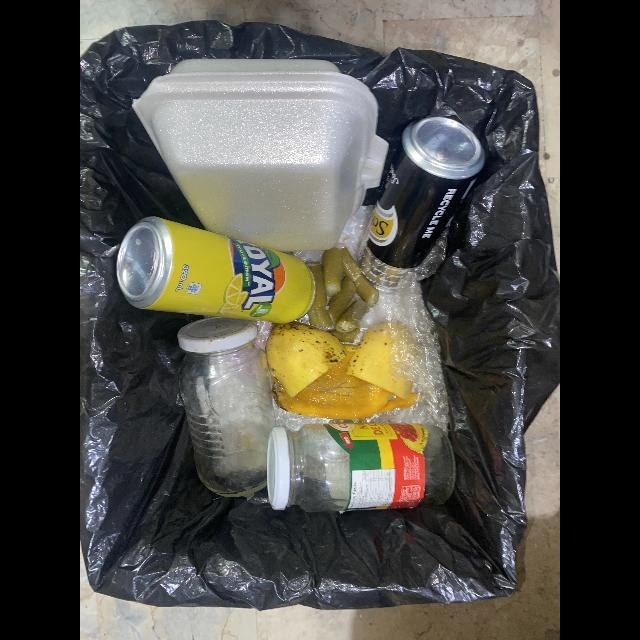aluminum: (356, 117, 485, 289), (116, 217, 316, 324)
glass_bottle: (177, 317, 275, 498), (267, 424, 456, 513)
left_over_food: (307, 247, 379, 346)
plastic_bag: (360, 280, 449, 431), (337, 206, 374, 262), (415, 232, 447, 278)
